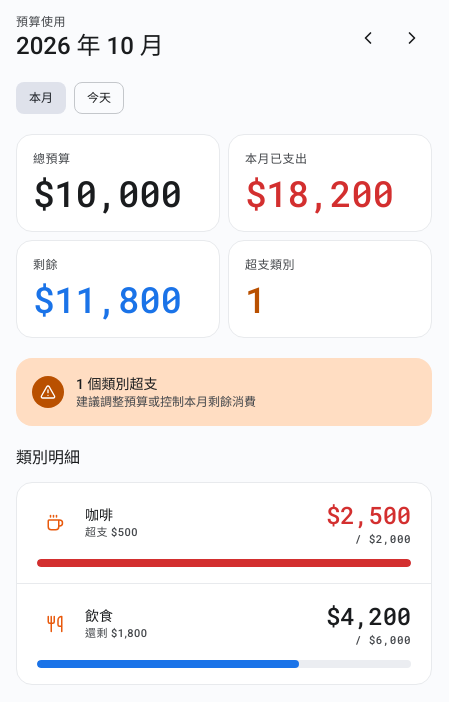
Test: BudgetUsagePage (M3 v2.0) › toggles scope between 本月 / 今天
Expected: the text "本月已支出" is shown, left=245, top=152, right=307, bottom=166
Click the button "今天". click: click(99, 98)
box: left=74, top=82, right=124, bottom=114
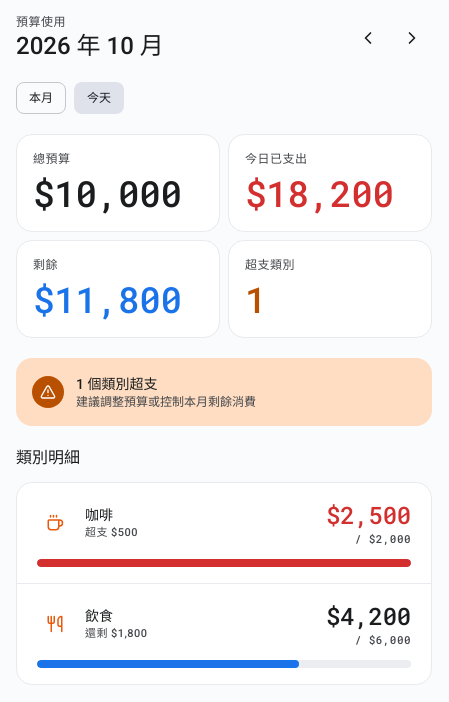
Now the text "今日已支出" is shown, box left=245, top=152, right=307, bottom=166
